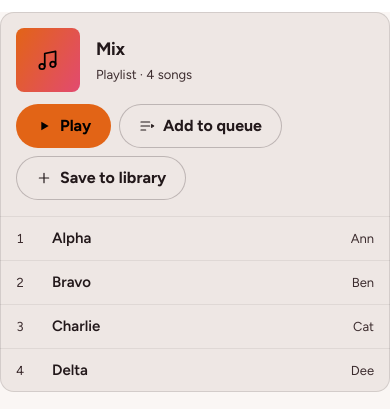
Scenario: PlaylistCard › plays the first song as soon as it is found, then adds the rest to the list in order
The image size is (390, 409).
Later steps or results of the test are not shown.
Click the button "Play" at (64, 126), box x1=16 y1=104 x2=111 y2=148
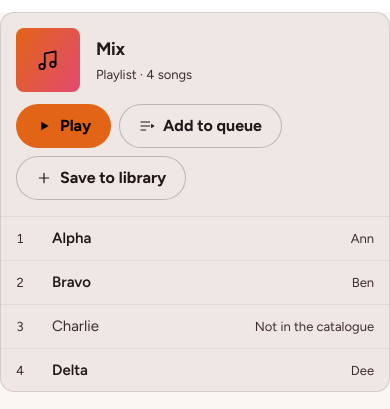
Expected: the text "Not in the catalogue" is shown, x1=255 y1=317 x2=374 y2=336
